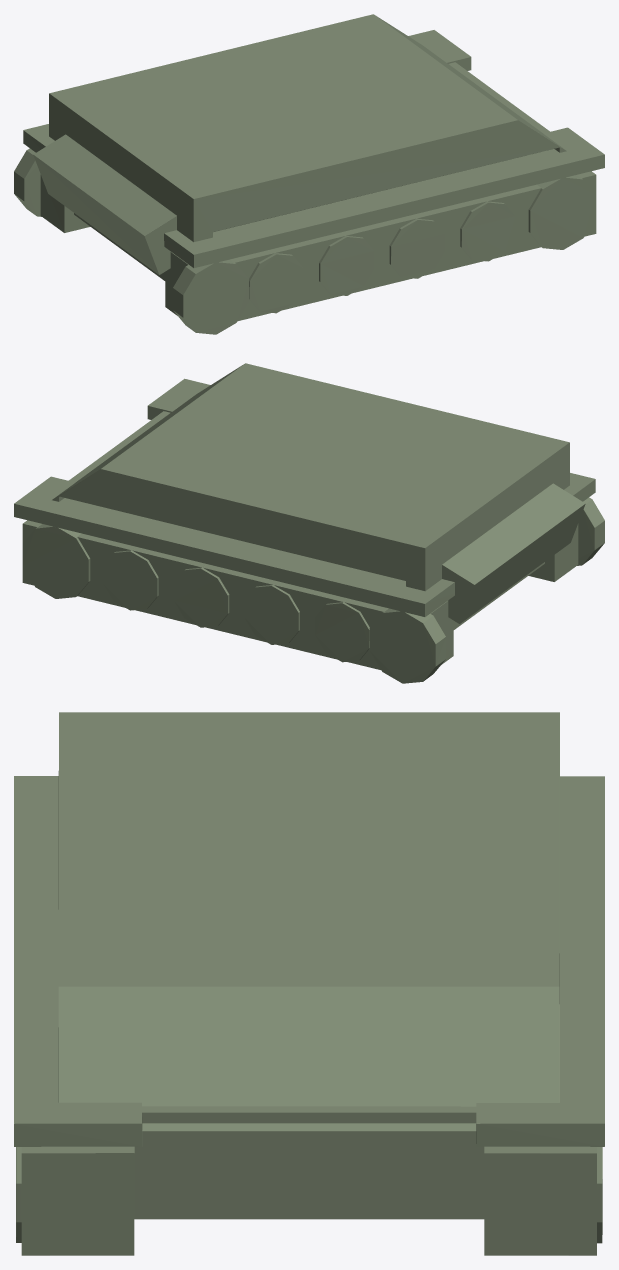
Rendered from tank_fr.lod1.glb.
3 renders of one model, top to bottom at view 1: azimuth 30°, elevation 25°; view 2: azimuth 150°, elevation 25°; view 3: azimuth 270°, elevation 25°, orthographic. The views are drawn at different scales.
Size of the model in its own units: 3.35 by 0.96 by 2.3.
